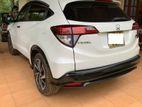car: (8, 0, 142, 96)
